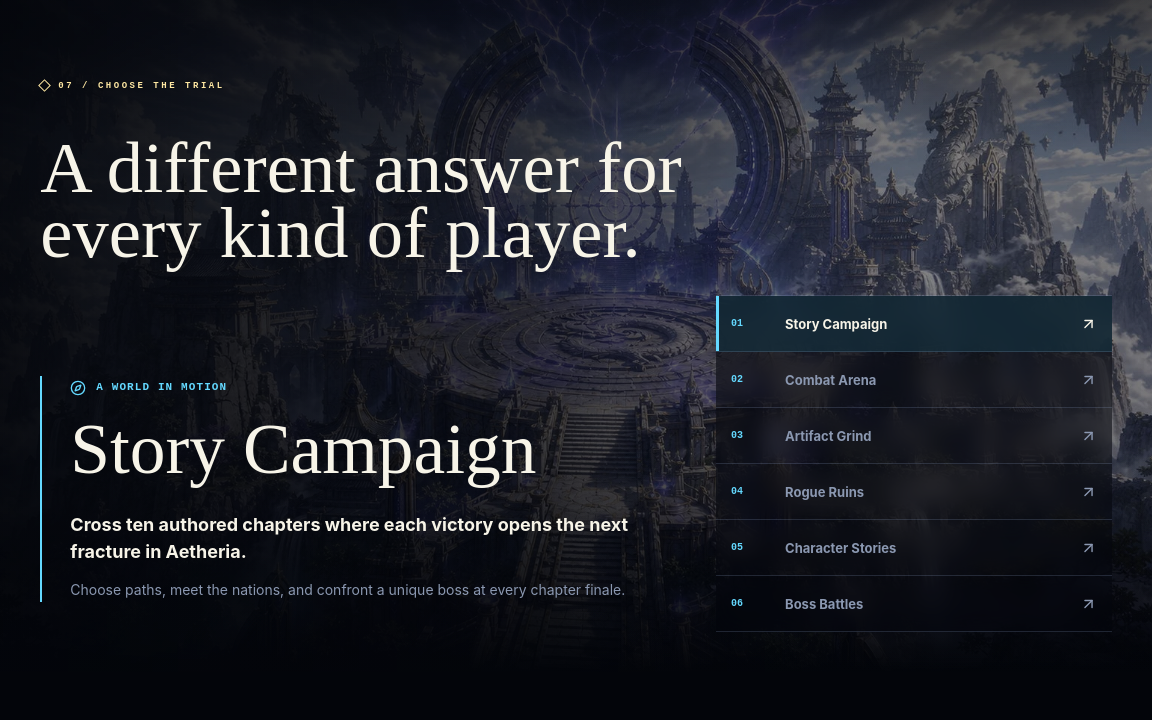
closing chapters › lets visitors inspect all six real game modes
The width and height of the screenshot is (1152, 720).
Step 1. Click the button named "Explore Rogue Ruins" → click(825, 492), box [716,464,1112,520]
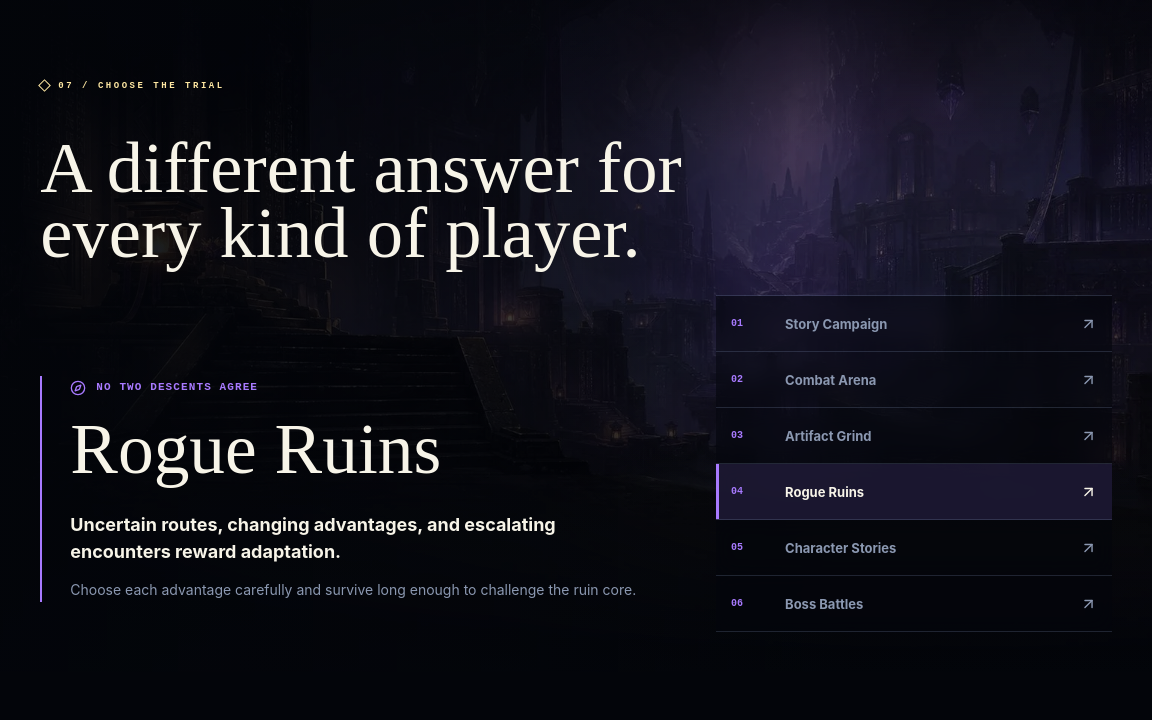
Result: the heading "Rogue Ruins" is shown at [70,409,441,488]
Result: the text "No two descents agree" is shown at [96,381,258,393]
